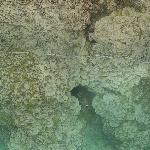dead: (3, 4, 147, 145)
